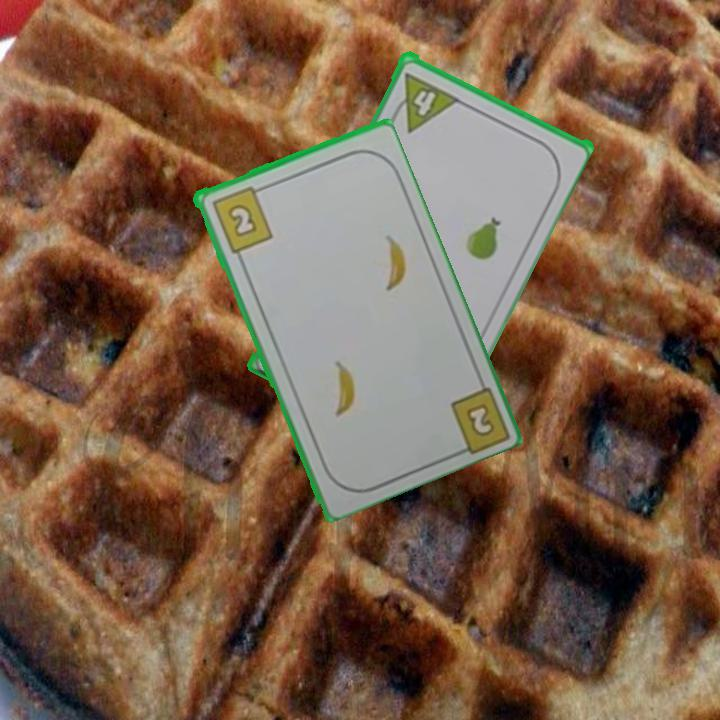2b: (208, 182, 275, 256), (461, 399, 498, 440)
4p: (386, 68, 461, 134)
